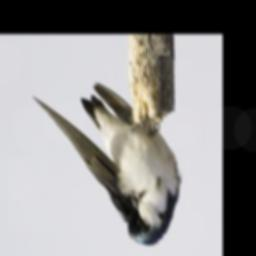Swallow: (32, 81, 184, 248)
